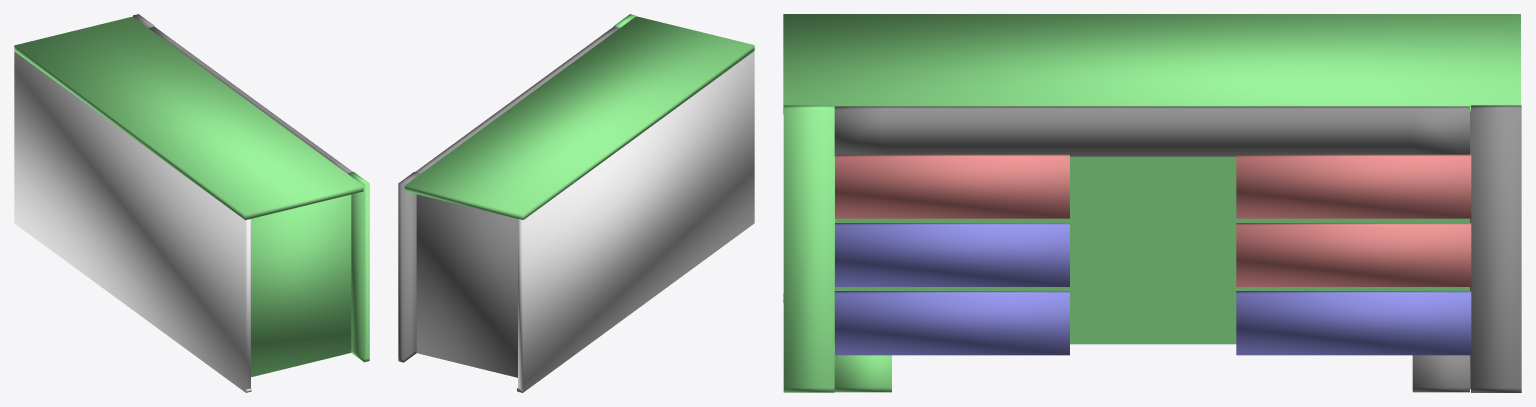
The model's file is locker.gltf.
3 views of the same model, side by side, from view 1: azimuth 30°, elevation 25°; view 2: azimuth 150°, elevation 25°; view 3: azimuth 270°, elevation 25° (orthographic). The views are drawn at different scales.
Parts seen in each view (by area): view 1: locker; view 2: locker; view 3: locker.
Boxes of the visible parts, x1,y1,x2,y2 form: locker: (14, 14, 369, 392); locker: (398, 14, 754, 392); locker: (783, 14, 1521, 392).
Size of the model in its own units: 0.913 by 1.22 by 2.85.
